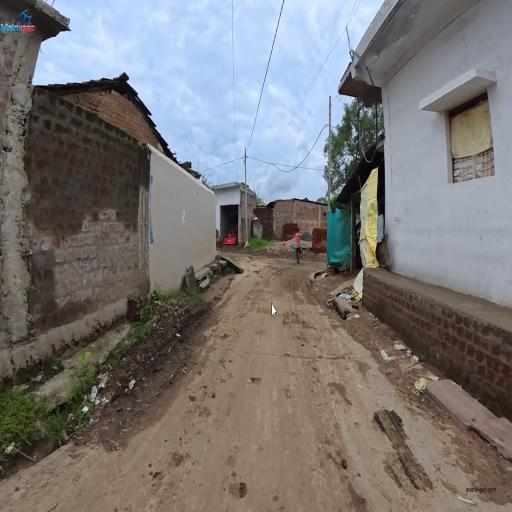longitudinal_crack: (214, 339, 349, 385)
